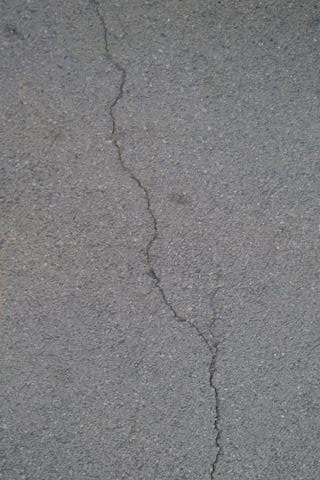A: (94, 11, 227, 480)
